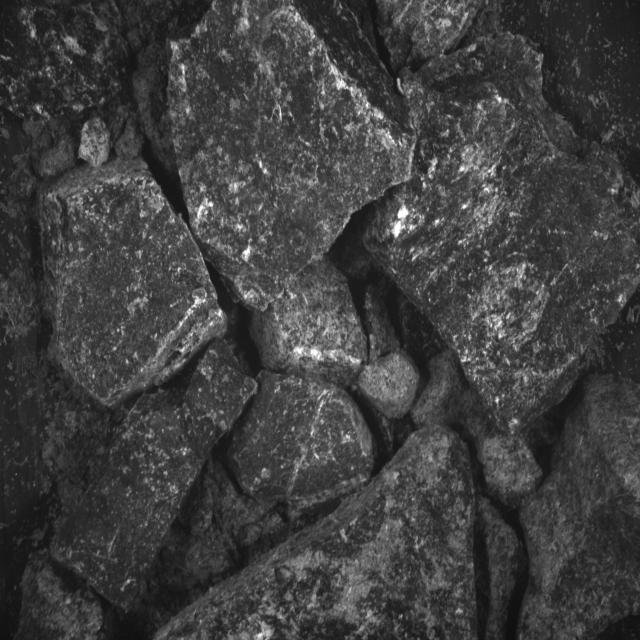Stones: (364, 34, 640, 434), (170, 1, 416, 311), (159, 427, 477, 640), (52, 341, 257, 610), (41, 159, 226, 408), (519, 376, 640, 640), (229, 371, 375, 512), (251, 259, 369, 387), (16, 550, 106, 640), (377, 1, 482, 74), (477, 498, 526, 640), (479, 436, 544, 509), (357, 351, 421, 420), (80, 118, 111, 169)
